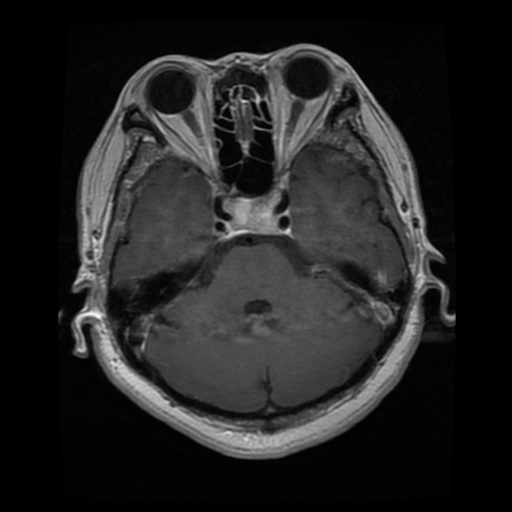pituitary: (226, 189, 282, 232)
